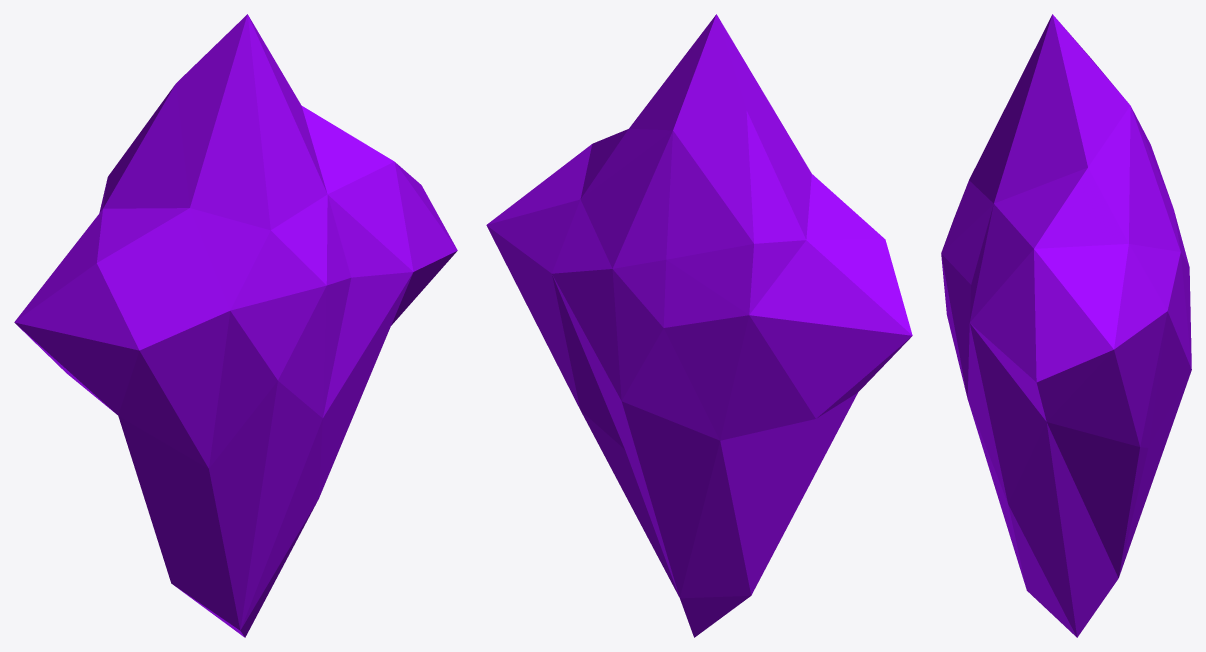
File: Crystal_035.fbx
3 renders of one model, left to right at view 1: azimuth 30°, elevation 25°; view 2: azimuth 150°, elevation 25°; view 3: azimuth 270°, elevation 25°, orthographic. The views are drawn at different scales.
Parts seen in each view (by area): view 1: Crystal.035; view 2: Crystal.035; view 3: Crystal.035.
Boxes of the visible parts, x1,y1,x2,y2 form: Crystal.035: [14, 14, 457, 637]; Crystal.035: [486, 14, 912, 637]; Crystal.035: [941, 14, 1191, 637].
Size of the model in its own units: 314 by 450 by 165.
